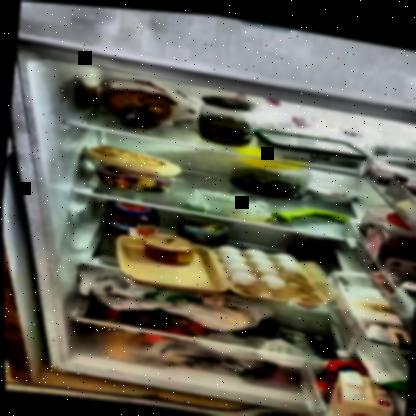cream_cheese: (255, 123, 365, 166)
eggs: (218, 240, 303, 289)
green_chillies: (265, 197, 344, 227)
milk: (330, 364, 390, 415)
olives: (230, 164, 309, 196)
red_onion: (122, 102, 158, 127)
